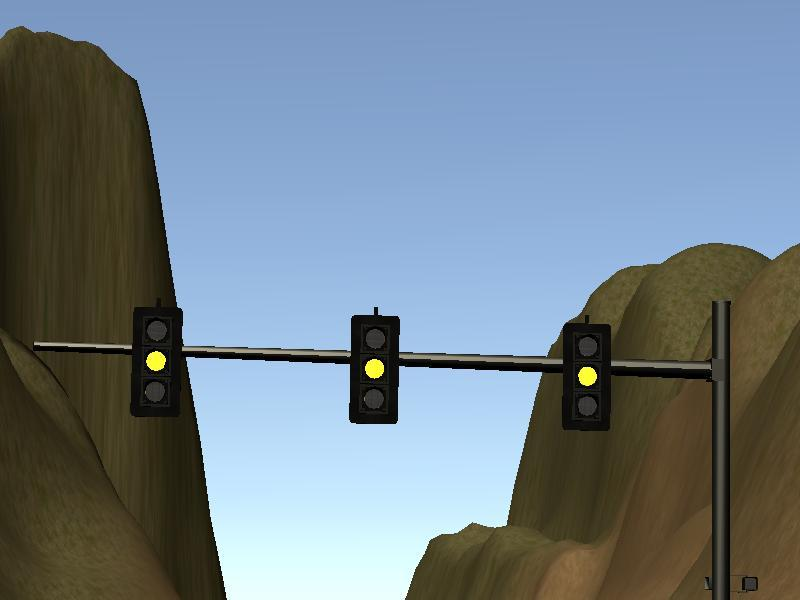Yellow: (130, 307, 184, 418), (349, 315, 400, 425), (562, 323, 611, 431)
